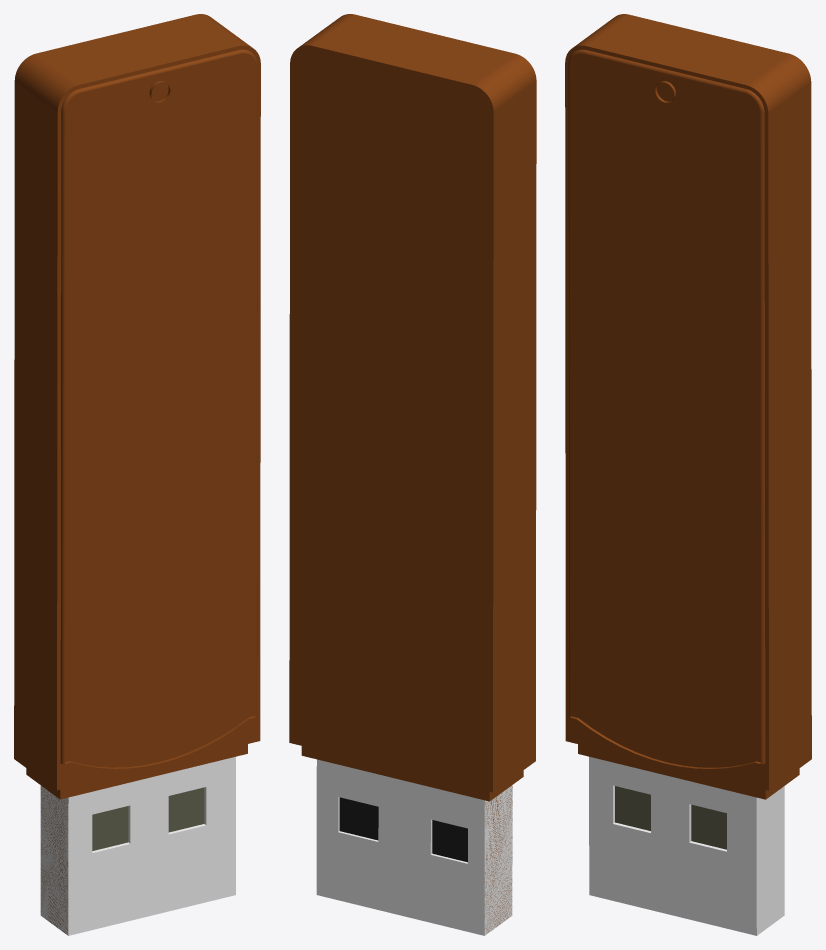
The picture shows the model from 3 angles, left to right: view 1: azimuth 30°, elevation 25°; view 2: azimuth 150°, elevation 25°; view 3: azimuth 330°, elevation 25°; orthographic projection.
Visible parts, largest first — view 1: usb pen; view 2: usb pen; view 3: usb pen.
Boxes of the visible parts, x1,y1,x2,y2 form: usb pen: (14, 14, 260, 935); usb pen: (289, 14, 536, 935); usb pen: (565, 14, 811, 935).
Size of the model in its own units: 154 by 621 by 59.58.
